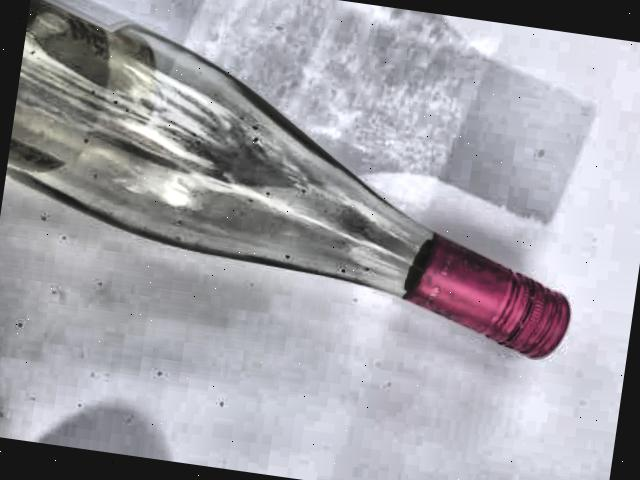Bottles: (0, 0, 640, 380)
